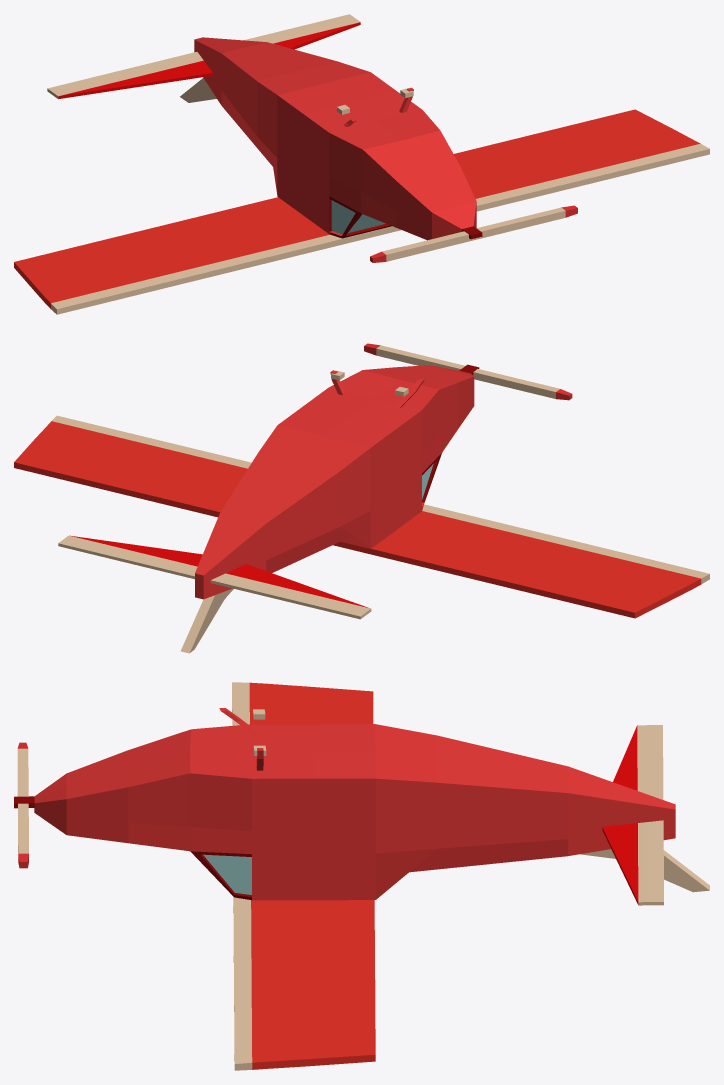
File: airplane.glb
3 views of the same model, one above another, from view 1: azimuth 30°, elevation 25°; view 2: azimuth 150°, elevation 25°; view 3: azimuth 270°, elevation 25° (orthographic). The views are drawn at different scales.
Visible parts, largest first — view 1: Plane, Wing, BackWing, Propeller, Back Tip; view 2: Plane, Wing, BackWing, Propeller, Back Tip; view 3: Plane, Wing, BackWing, Propeller, Back Tip.
Part boxes in pixels (x1,y1,x2,y2): Plane: (194, 37, 482, 240); Wing: (14, 109, 709, 314); BackWing: (47, 14, 360, 99); Propeller: (370, 205, 577, 262); Back Tip: (180, 78, 216, 102); Plane: (195, 364, 479, 599); Wing: (14, 415, 709, 618); BackWing: (58, 535, 371, 619); Propeller: (364, 343, 572, 400); Back Tip: (181, 588, 233, 653); Plane: (14, 724, 675, 900); Wing: (232, 682, 375, 1070); BackWing: (602, 725, 663, 905); Propeller: (17, 742, 28, 868); Back Tip: (580, 849, 709, 892).
Bounding box in the file's own units: 5.71 × 1.14 × 4.4.
